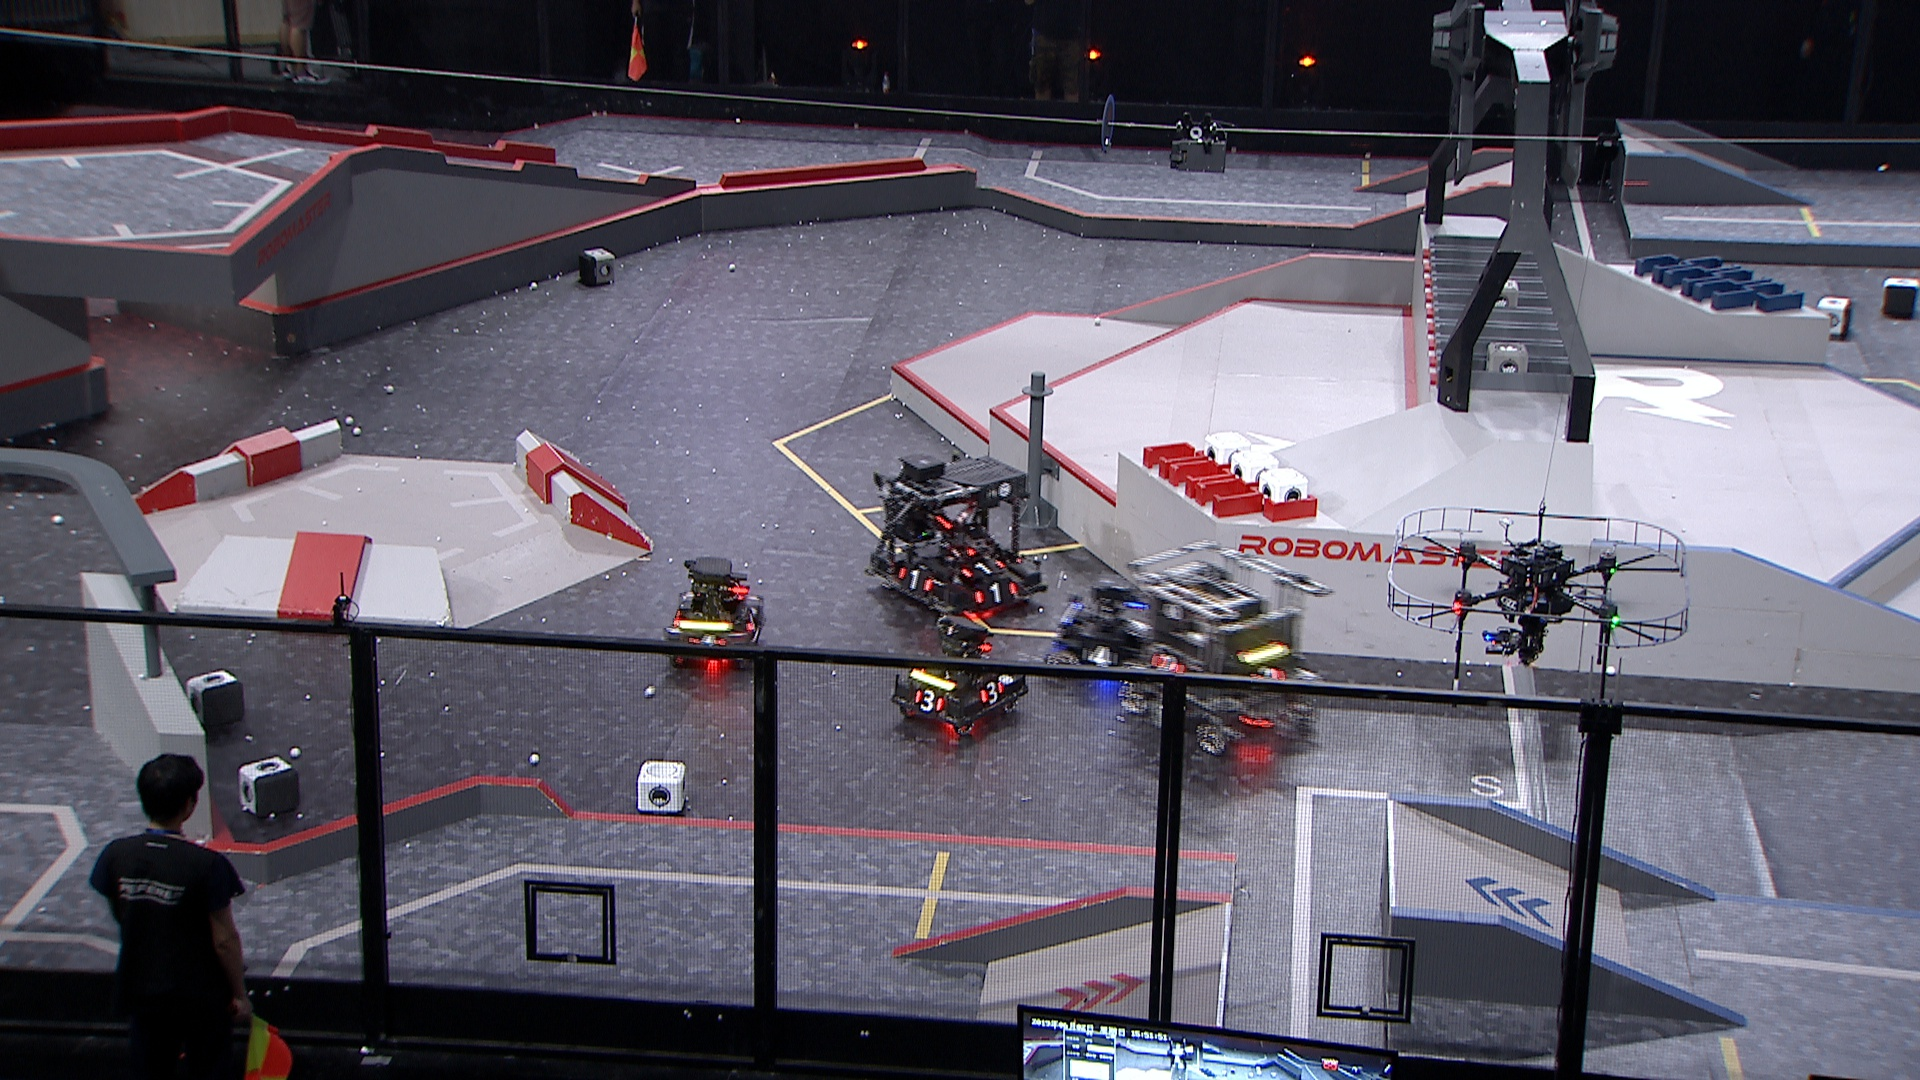armor: (975, 579, 1015, 607), (894, 568, 936, 595), (1081, 642, 1120, 671), (911, 687, 945, 716), (975, 680, 1007, 704), (1149, 655, 1185, 676), (1249, 665, 1288, 683), (960, 560, 1010, 575), (1126, 612, 1153, 638), (690, 636, 728, 647), (744, 612, 760, 633)
car: (1117, 538, 1332, 752), (865, 451, 1050, 622), (889, 613, 1027, 738), (1044, 575, 1178, 687), (666, 556, 767, 669)
